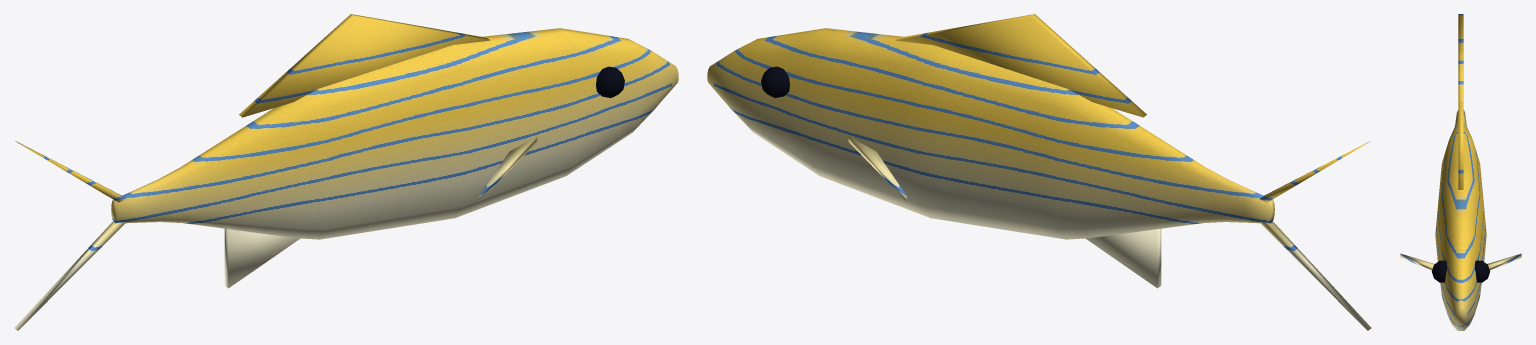
The model's file is roncador.fbx.
3 views of the same model, side by side, from view 1: azimuth 30°, elevation 25°; view 2: azimuth 150°, elevation 25°; view 3: azimuth 270°, elevation 25° (orthographic). The views are drawn at different scales.
Visible parts, largest first — view 1: roncador; view 2: roncador; view 3: roncador.
Part boxes in pixels (bbox=[...]): roncador: bbox=[14, 14, 678, 330]; roncador: bbox=[707, 14, 1371, 330]; roncador: bbox=[1400, 14, 1521, 330].
Size of the model in its own units: 0.32 by 0.1114 by 0.0707.
Materials: 1 (1 with a texture image).
